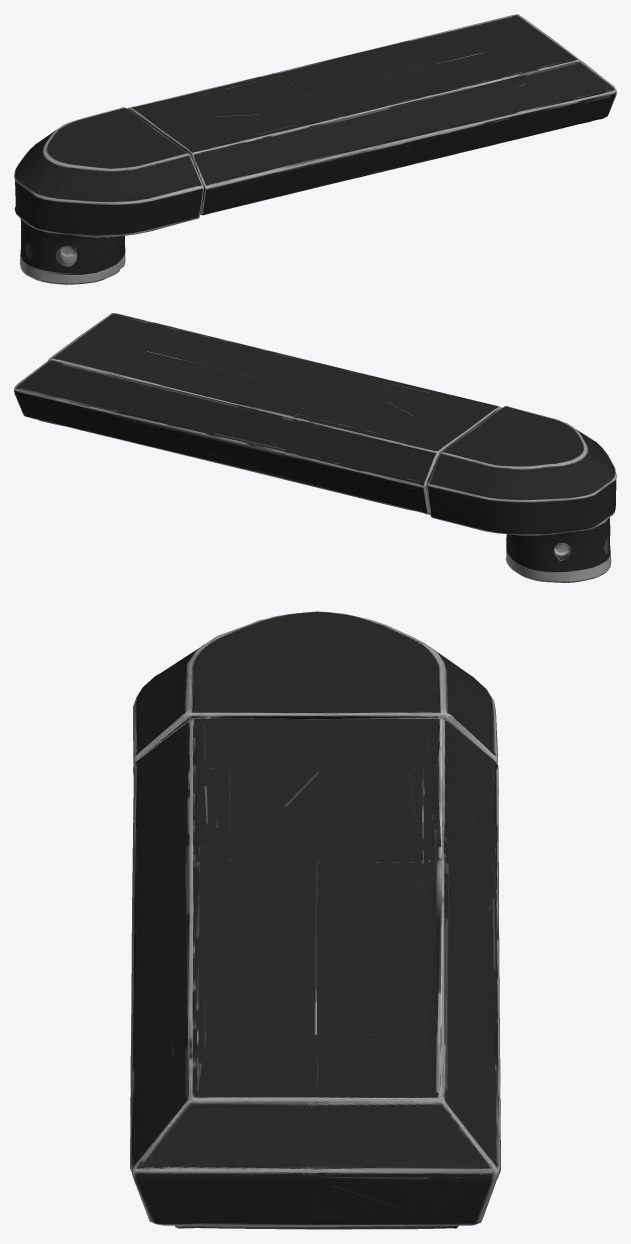
File: meshy-t2.glb
3 renders of one model, top to bottom at view 1: azimuth 30°, elevation 25°; view 2: azimuth 150°, elevation 25°; view 3: azimuth 270°, elevation 25°, orthographic. The views are drawn at different scales.
Size of the model in its own units: 1 by 0.1983 by 0.2946.
1 material, 1 textured.
